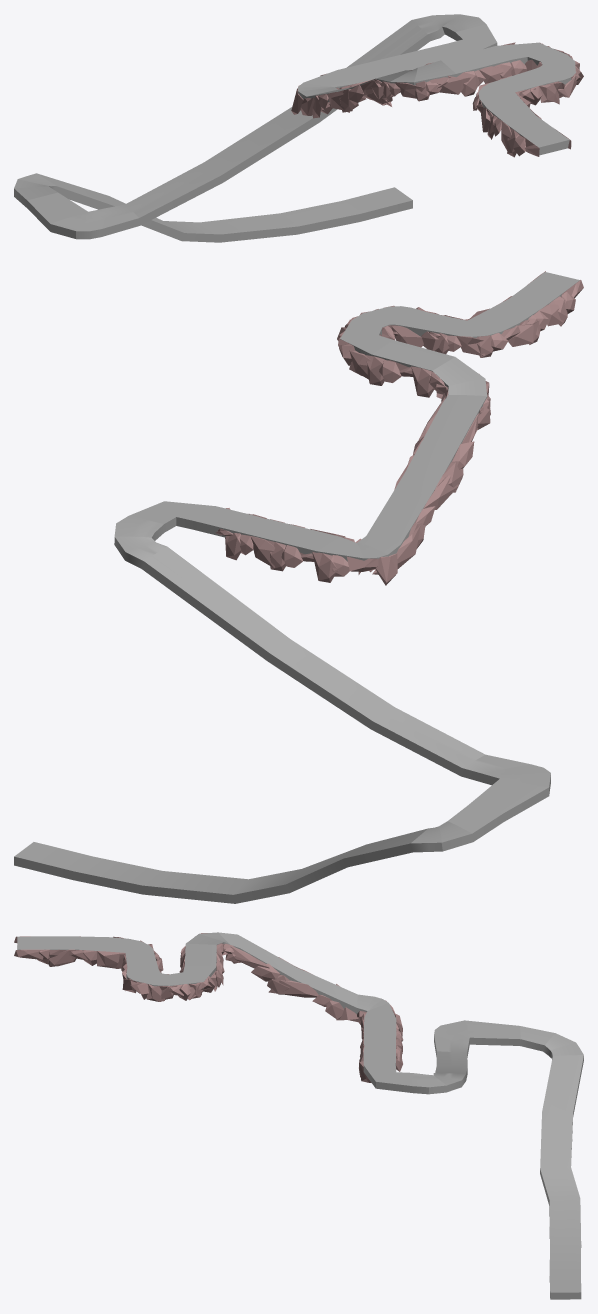
The model's file is hill (1).fbx.
3 renders of one model, top to bottom at view 1: azimuth 30°, elevation 25°; view 2: azimuth 150°, elevation 25°; view 3: azimuth 270°, elevation 25°, orthographic. The views are drawn at different scales.
Parts seen in each view (by area): view 1: polySurface30; view 2: polySurface30; view 3: polySurface30.
Boxes of the visible parts, <box> form: polySurface30: <box>14,14,583,242</box>; polySurface30: <box>14,271,583,903</box>; polySurface30: <box>14,932,583,1299</box>.
Bounding box in the file's own units: 340 × 261 × 470.
